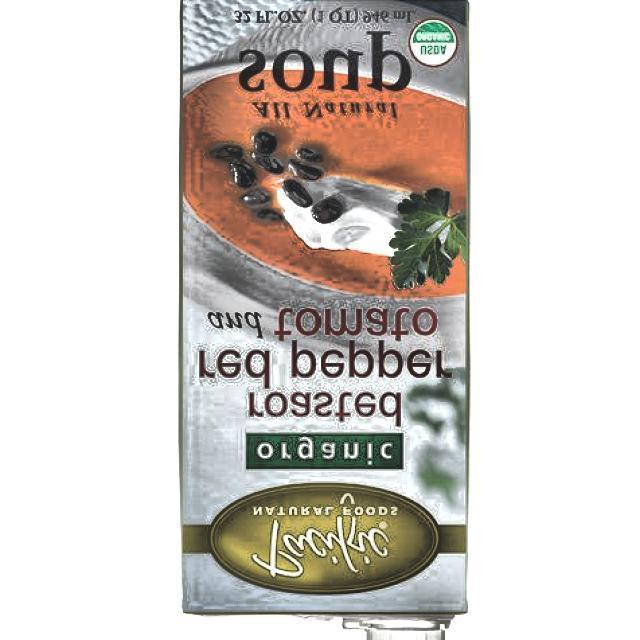cardboard: (178, 0, 470, 625)
